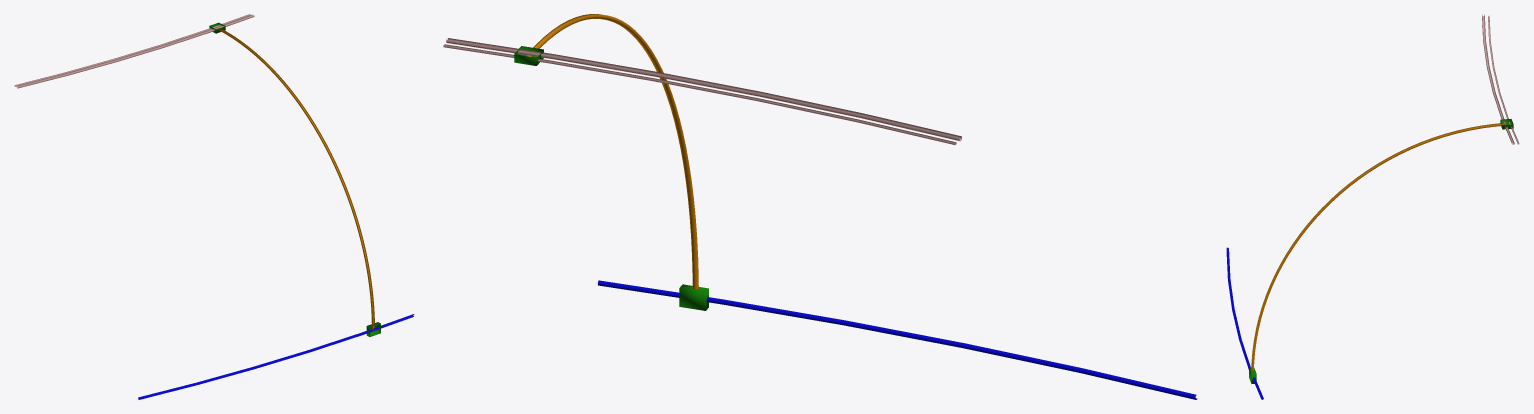
File: Arc_Pipes_Bend.FBX
3 renders of one model, left to right at view 1: azimuth 30°, elevation 25°; view 2: azimuth 150°, elevation 25°; view 3: azimuth 270°, elevation 25°, orthographic. The views are drawn at different scales.
Visible parts, largest first — view 1: Arc_Pipes_Bend; view 2: Arc_Pipes_Bend; view 3: Arc_Pipes_Bend.
Boxes of the visible parts, x1,y1,x2,y2 form: Arc_Pipes_Bend: (14, 14, 414, 399); Arc_Pipes_Bend: (443, 14, 1197, 399); Arc_Pipes_Bend: (1226, 14, 1519, 399).
Bounding box in the file's own units: 5.95 × 4.45 × 4.91.
